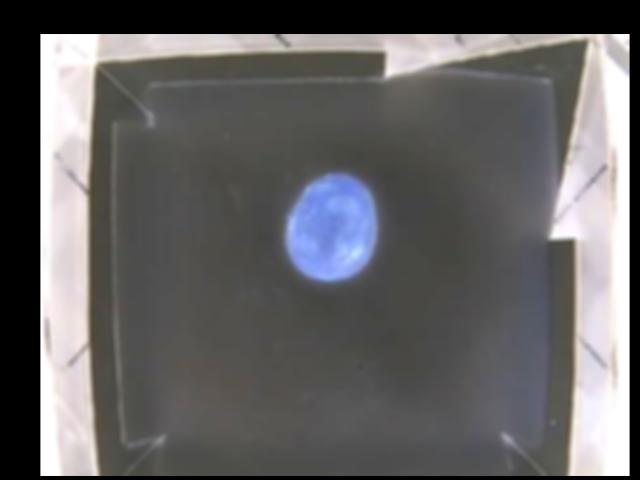Potato: (284, 172, 378, 283)
